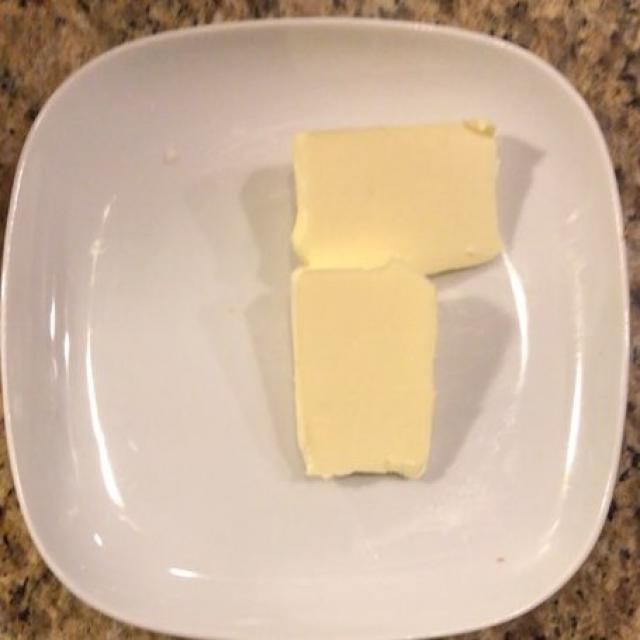butter: (295, 132, 490, 478)
